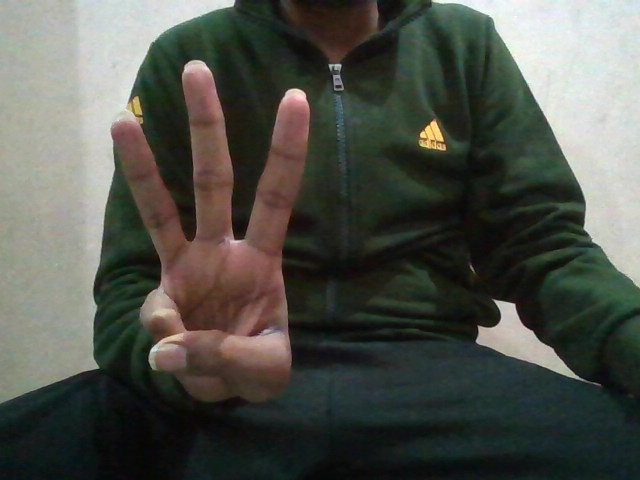W: (99, 57, 339, 397)
